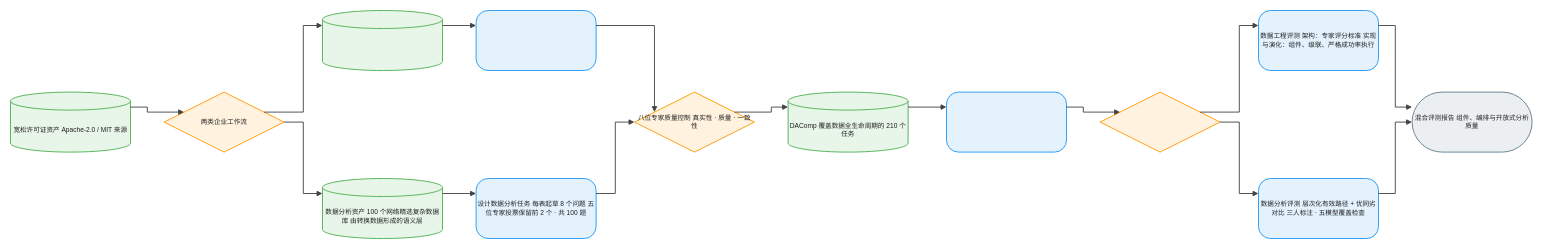
Image size: 1543x250. Some labels were removed from this diagram. The shapes that lost their labels are listed below. From the top down, each one's centre as x and y in pixels, then its label:
At point 382,40: "数据工程资产 73 个软件服务模式与转换项目 关系一致的合成数据".
At point 535,40: "设计数据工程任务 30 架构 · 30 实现 · 50 演化 需求、契约、仓库与标准流水线".
At point 1006,121: "运行自主数据智能体 生成仓库、规范、报告与洞察".
At point 1159,121: "按任务类型分流".
